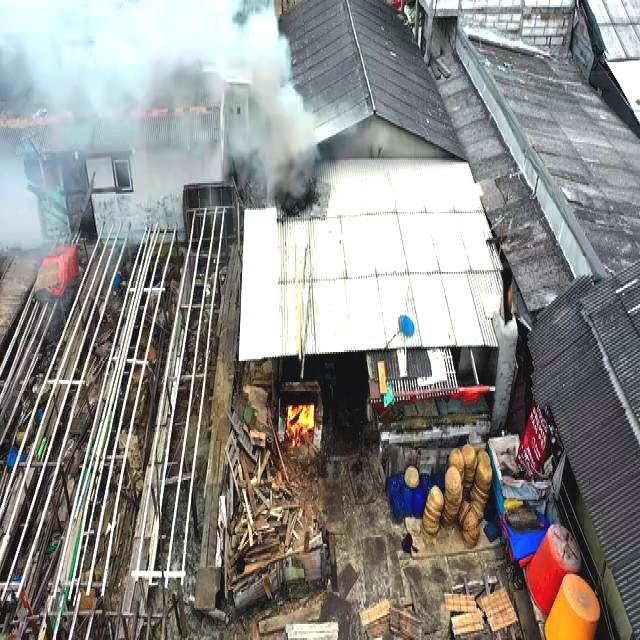smoke: (57, 0, 175, 137), (137, 79, 225, 185), (160, 0, 245, 108), (252, 84, 316, 204), (1, 8, 70, 108), (235, 2, 285, 102), (218, 120, 254, 164)
